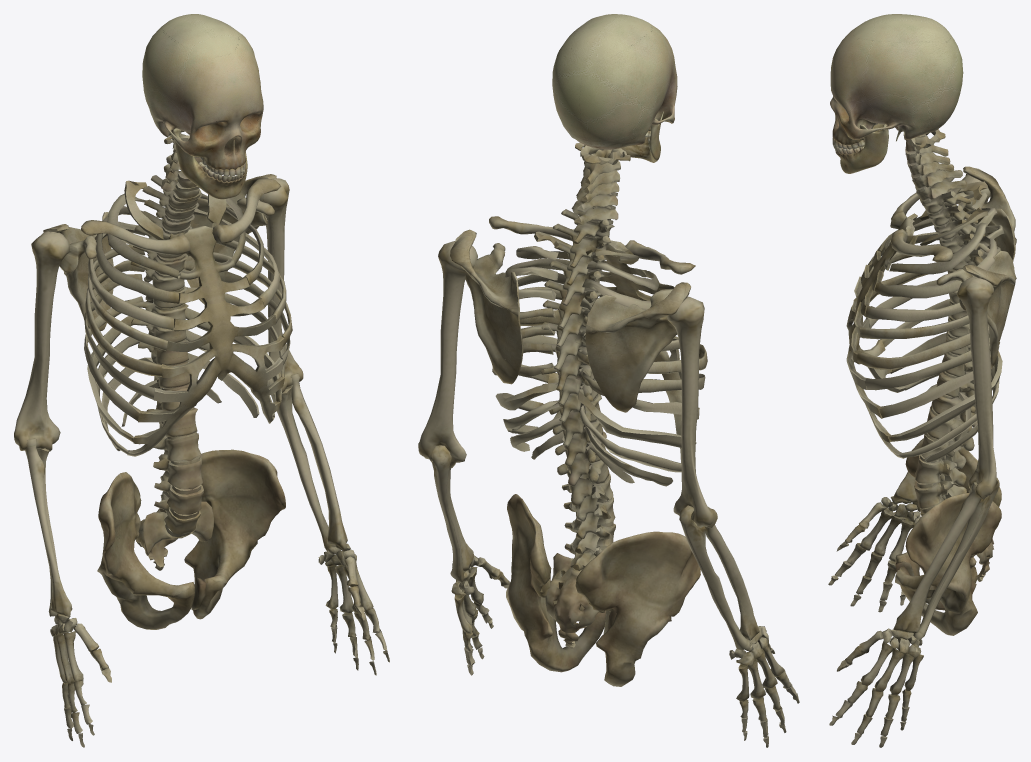
Rendered from upperSkeletonWithHead.fbx.
The picture shows the model from 3 angles, left to right: view 1: azimuth 30°, elevation 25°; view 2: azimuth 150°, elevation 25°; view 3: azimuth 270°, elevation 25°; orthographic projection. The views are drawn at different scales.
Parts seen in each view (by area): view 1: Skeletal_Ribs, skull1, polySurface467, polySurface134, polySurface135, polySurface169, polySurface168, polySurface91, polySurface132, polySurface133, polySurface89, polySurface536 (+10 smaller); view 2: Skeletal_Ribs, skull1, polySurface135, polySurface91, polySurface134, polySurface90, polySurface168, polySurface169, polySurface89, polySurface467, polySurface537, polySurface536 (+21 smaller); view 3: Skeletal_Ribs, skull1, polySurface134, polySurface168, polySurface467, polySurface90, polySurface132, polySurface536, polySurface91, jaw, polySurface135, polySurface531 (+24 smaller).
Part boxes in pixels (x1=…): Skeletal_Ribs: x1=84, y1=180, x2=292, y2=454; skull1: x1=142, y1=14, x2=263, y2=169; polySurface467: x1=127, y1=222, x2=284, y2=456; polySurface134: x1=184, y1=449, x2=285, y2=619; polySurface135: x1=97, y1=472, x2=194, y2=629; polySurface169: x1=14, y1=231, x2=69, y2=451; polySurface168: x1=259, y1=178, x2=303, y2=394; polySurface91: x1=43, y1=212, x2=113, y2=331; polySurface132: x1=290, y1=373, x2=347, y2=549; polySurface133: x1=25, y1=438, x2=72, y2=617; polySurface89: x1=136, y1=501, x2=213, y2=570; polySurface536: x1=271, y1=385, x2=335, y2=551; Skeletal_Ribs: x1=492, y1=231, x2=707, y2=486; skull1: x1=552, y1=14, x2=677, y2=149; polySurface135: x1=575, y1=531, x2=700, y2=686; polySurface91: x1=585, y1=282, x2=690, y2=412; polySurface134: x1=506, y1=494, x2=606, y2=672; polySurface90: x1=450, y1=229, x2=523, y2=384; polySurface168: x1=418, y1=241, x2=477, y2=467; polySurface169: x1=667, y1=296, x2=717, y2=527; polySurface89: x1=545, y1=553, x2=613, y2=648; polySurface467: x1=548, y1=240, x2=699, y2=463; polySurface537: x1=679, y1=505, x2=750, y2=651; polySurface536: x1=431, y1=445, x2=464, y2=583; Skeletal_Ribs: x1=857, y1=181, x2=1004, y2=462; skull1: x1=830, y1=14, x2=963, y2=144; polySurface134: x1=895, y1=493, x2=1001, y2=635; polySurface168: x1=956, y1=276, x2=996, y2=499; polySurface467: x1=846, y1=213, x2=917, y2=458; polySurface90: x1=936, y1=250, x2=1016, y2=368; polySurface132: x1=893, y1=482, x2=981, y2=632; polySurface536: x1=913, y1=478, x2=999, y2=640; polySurface91: x1=957, y1=166, x2=1016, y2=261; jaw: x1=835, y1=123, x2=888, y2=173; polySurface135: x1=895, y1=438, x2=1001, y2=610; polySurface531: x1=915, y1=455, x2=966, y2=487.
Bounding box in the file's own units: 48.19 × 103 × 26.72.
